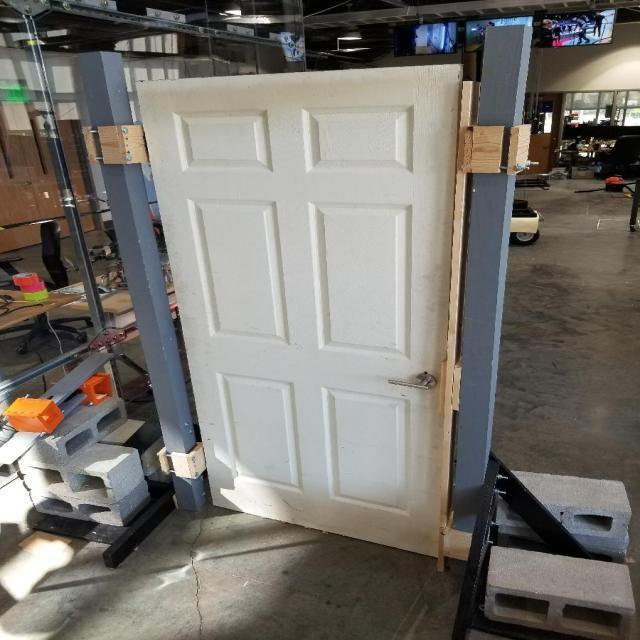door: (132, 59, 464, 564), (380, 370, 438, 394)
